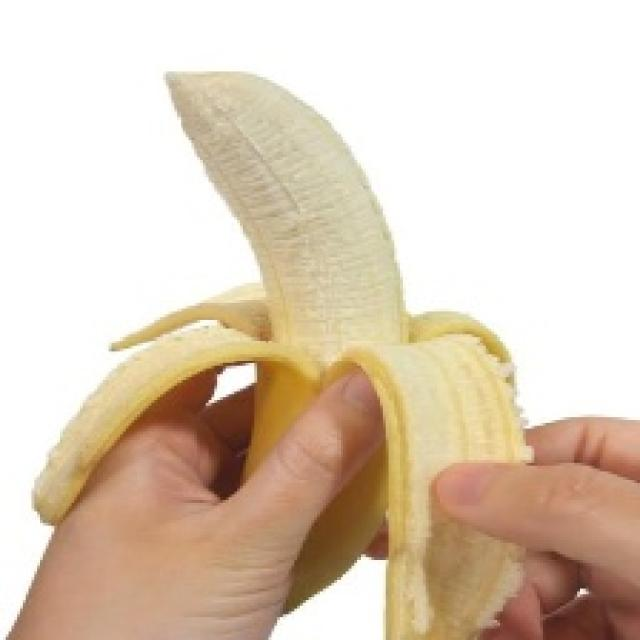Banana: (29, 66, 534, 637)
